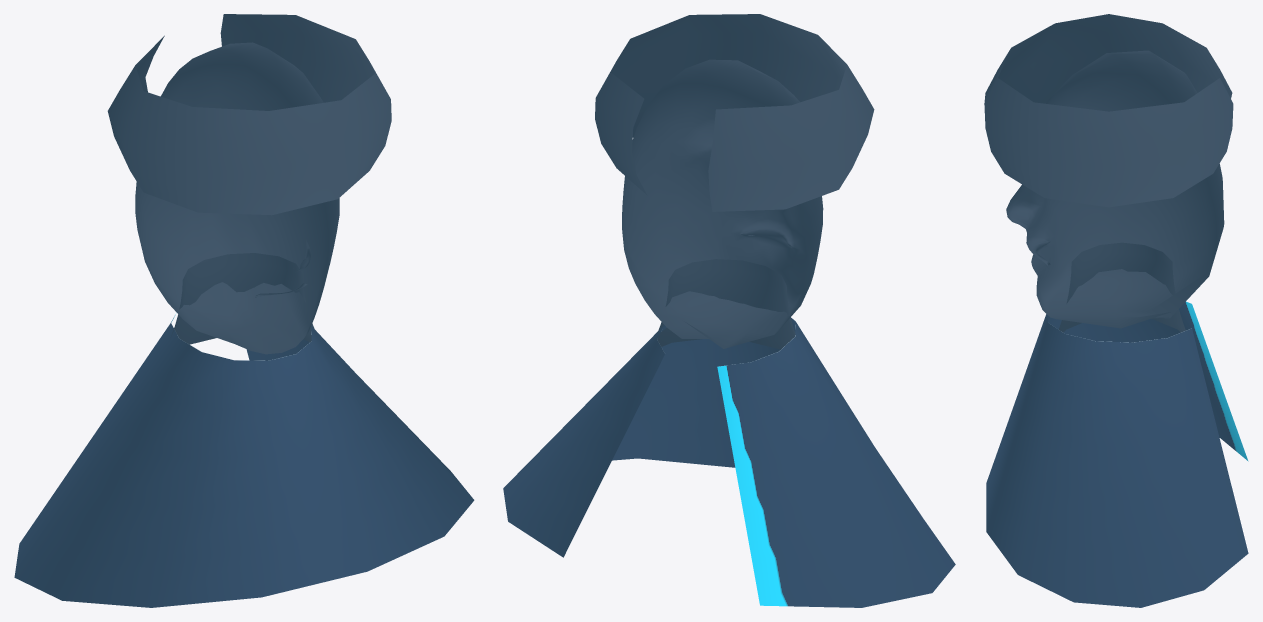
File: alex_avatar.glb
The picture shows the model from 3 angles, left to right: view 1: azimuth 30°, elevation 25°; view 2: azimuth 150°, elevation 25°; view 3: azimuth 270°, elevation 25°; orthographic projection. The views are drawn at different scales.
Visible parts, largest first — view 1: Alex_Digital_Human; view 2: Alex_Digital_Human; view 3: Alex_Digital_Human.
Boxes of the visible parts, x1,y1,x2,y2 form: Alex_Digital_Human: (14, 14, 474, 607); Alex_Digital_Human: (503, 14, 955, 607); Alex_Digital_Human: (984, 14, 1248, 607).
Size of the model in its own units: 3.37 by 3.53 by 1.87.
Materials: 1 (1 with a texture image).
